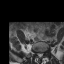CCS_severe_stenosis: (39, 51, 41, 58)
LFS_severe_stenosis: (43, 51, 46, 56)
LLS_stenosis: (41, 52, 43, 56)
RFS_severe_stenosis: (35, 51, 37, 56)
RLS_stenosis: (37, 51, 39, 57)
